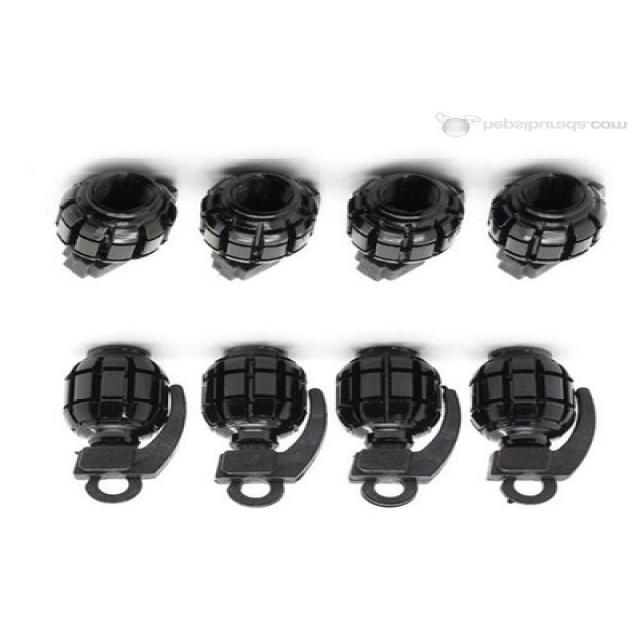grenade: (329, 342, 464, 512), (194, 345, 333, 505), (466, 345, 600, 509), (60, 345, 188, 511), (52, 166, 188, 281), (344, 168, 476, 286), (481, 166, 614, 280), (200, 171, 322, 288)
